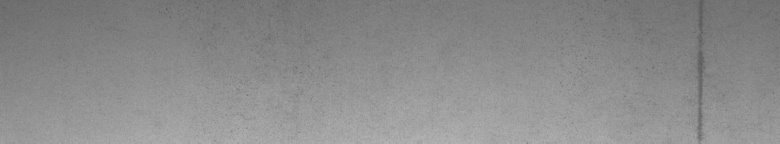hd: (688, 4, 711, 136)
